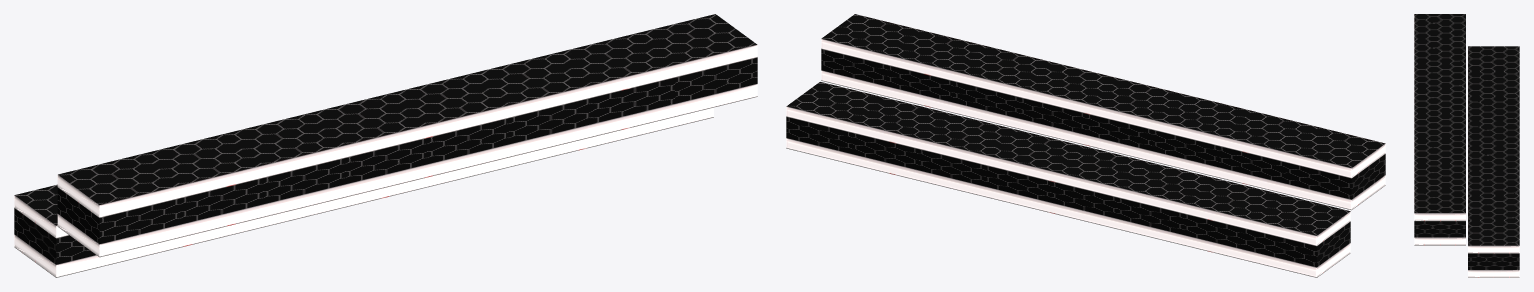
The model's file is FUT0510026.fbx.
3 renders of one model, left to right at view 1: azimuth 30°, elevation 25°; view 2: azimuth 150°, elevation 25°; view 3: azimuth 270°, elevation 25°, orthographic. The views are drawn at different scales.
Parts seen in each view (by area): view 1: smFUT0510026; view 2: smFUT0510026; view 3: smFUT0510026.
Part boxes in pixels (x1=…): smFUT0510026: x1=14, y1=14, x2=757, y2=277; smFUT0510026: x1=786, y1=14, x2=1385, y2=277; smFUT0510026: x1=1414, y1=14, x2=1519, y2=277.
Size of the model in its own units: 232 by 35.25 by 52.
Materials: 1 (1 with a texture image).
